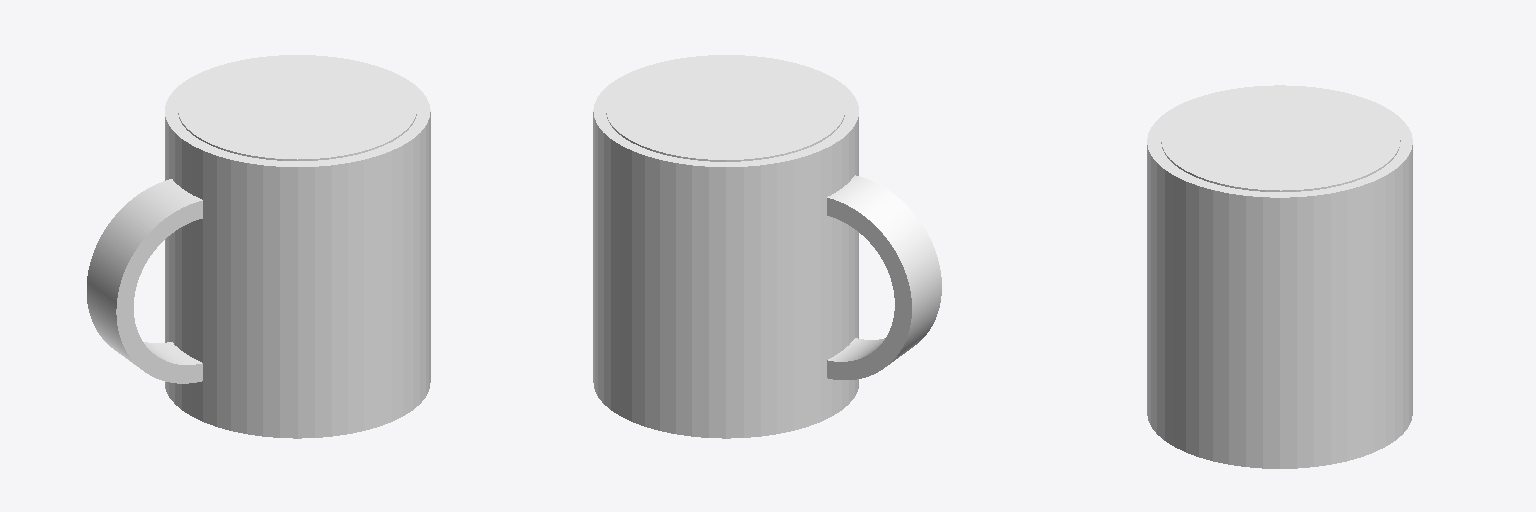
Rendered from greenmug.obj.
3 renders of one model, left to right at view 1: azimuth 30°, elevation 25°; view 2: azimuth 150°, elevation 25°; view 3: azimuth 270°, elevation 25°, orthographic.
Visible parts, largest first — view 1: greenmug; view 2: greenmug; view 3: greenmug.
Boxes of the visible parts, box(x1,y1,x2,y2) form: greenmug: box(87, 55, 430, 438); greenmug: box(593, 55, 941, 438); greenmug: box(1147, 85, 1412, 468).
Size of the model in its own units: 5.44 by 4.53 by 4.